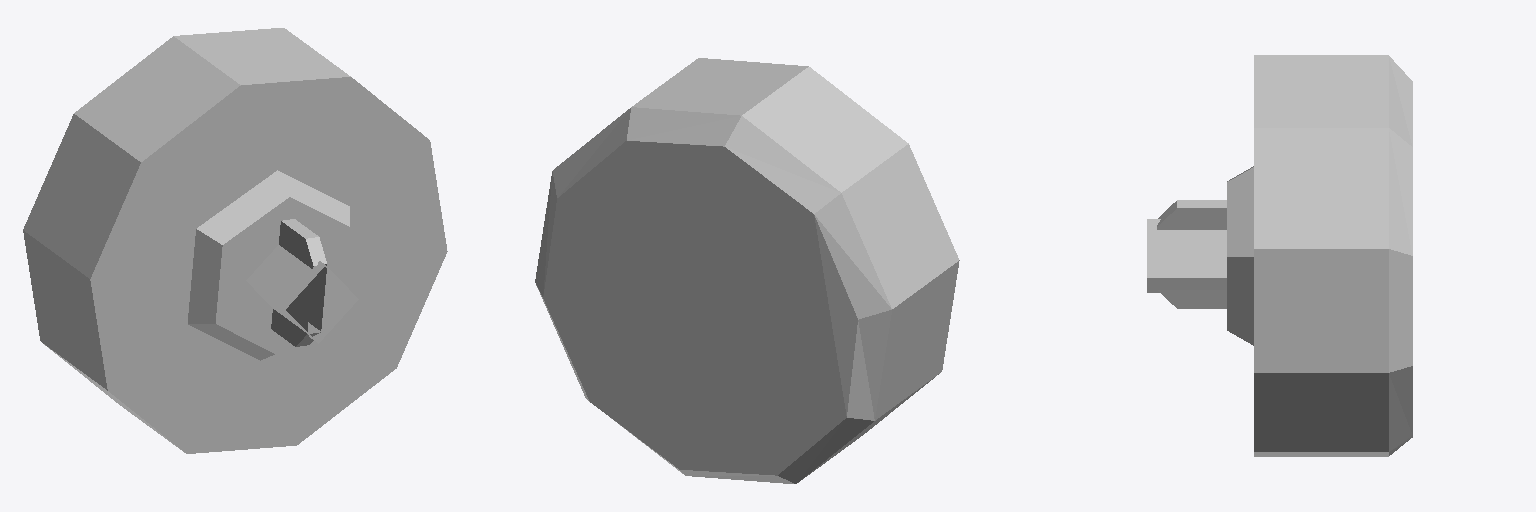
The model's file is wheel87.obj.
The picture shows the model from 3 angles: view 1: azimuth 30°, elevation 25°; view 2: azimuth 150°, elevation 25°; view 3: azimuth 270°, elevation 25°; orthographic projection.
Visible parts, largest first — view 1: wheel_low_textures; view 2: wheel_low_textures; view 3: wheel_low_textures.
Part boxes in pixels (x1,y1,x2,y2): wheel_low_textures: (23, 28, 447, 453); wheel_low_textures: (535, 58, 959, 483); wheel_low_textures: (1147, 55, 1412, 456).
Size of the model in its own units: 1.54 by 1.54 by 0.9907.